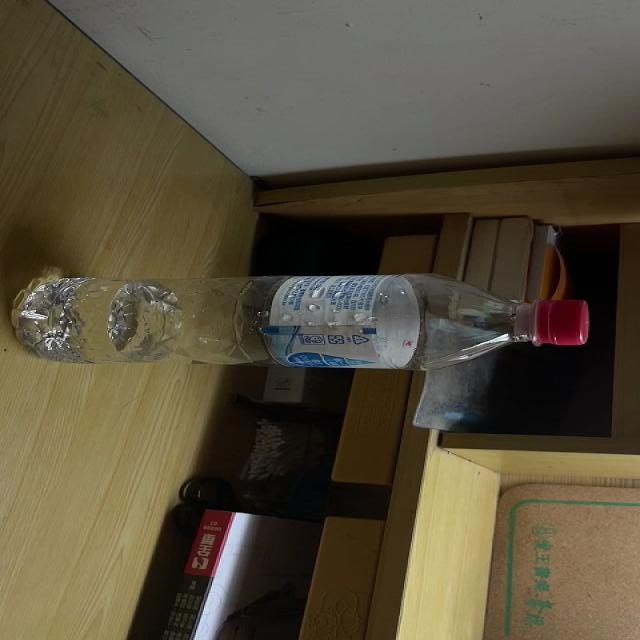Water: (11, 276, 594, 369)
